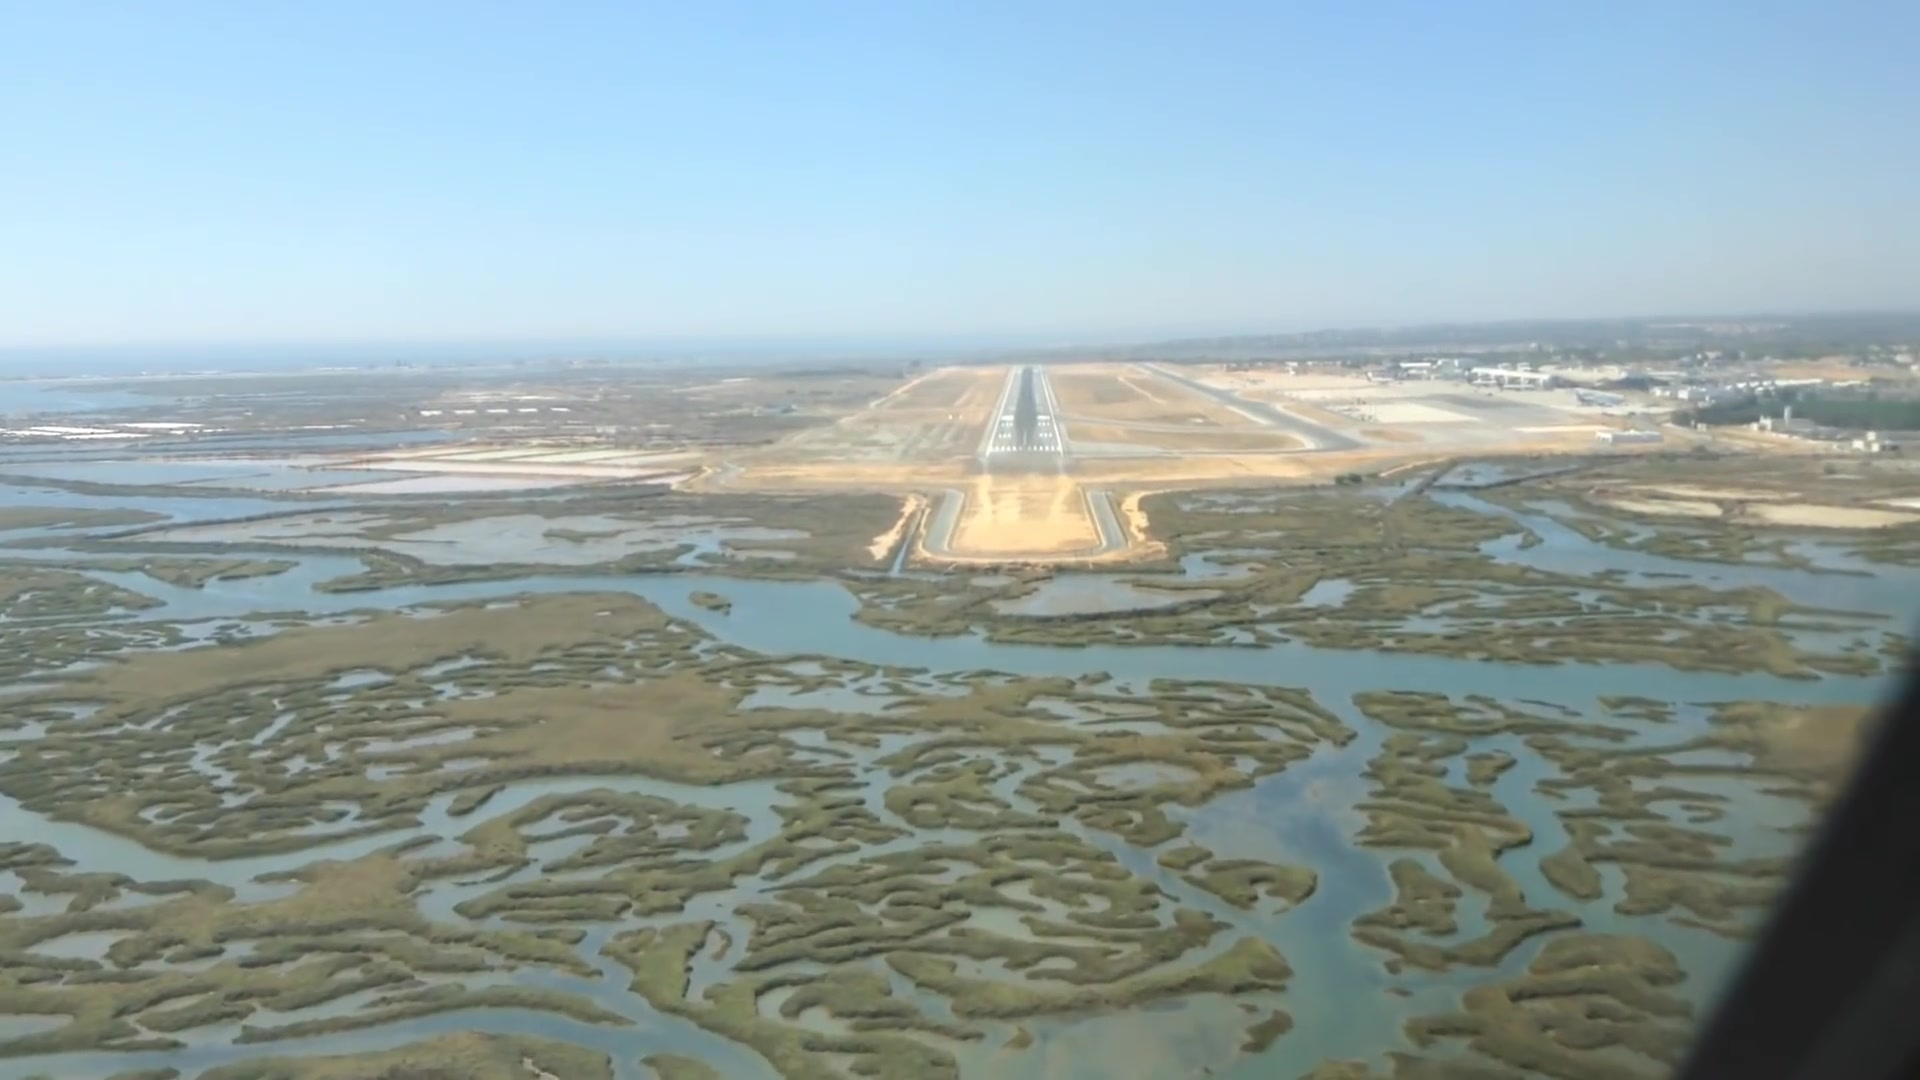entrance: (986, 443, 1062, 454)
runway: (980, 368, 1064, 462)
